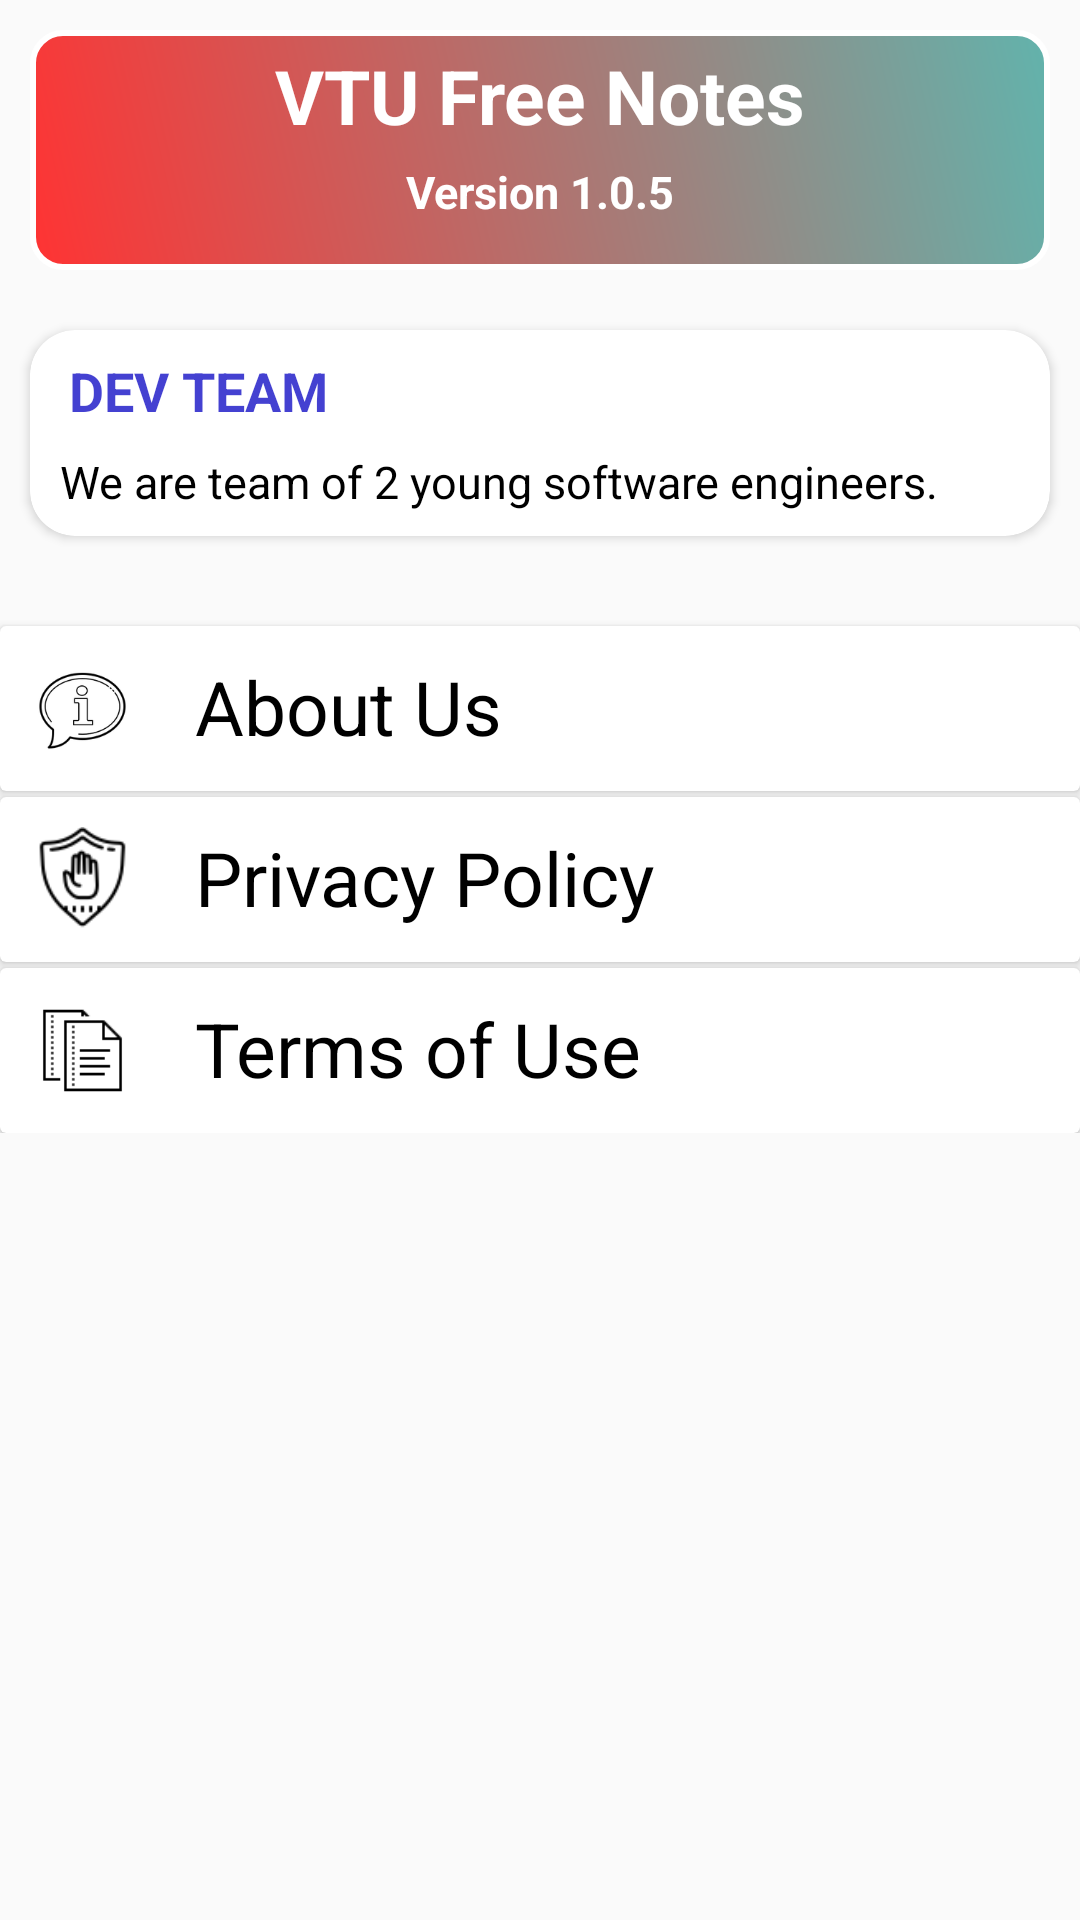

Icons on this 1080×1920 Android screen, each with its box as {"x1": x1, "y1": y1, "x2": x2, "y2": y2}:
iconterms: {"x1": 43, "y1": 1009, "x2": 122, "y2": 1092}
